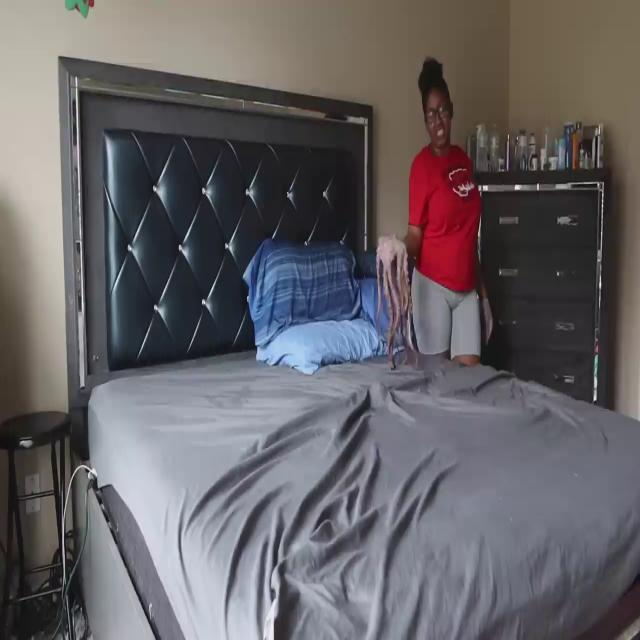octopus: (371, 232, 418, 364)
